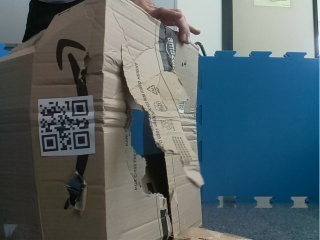caja_rota: (1, 1, 178, 240)
